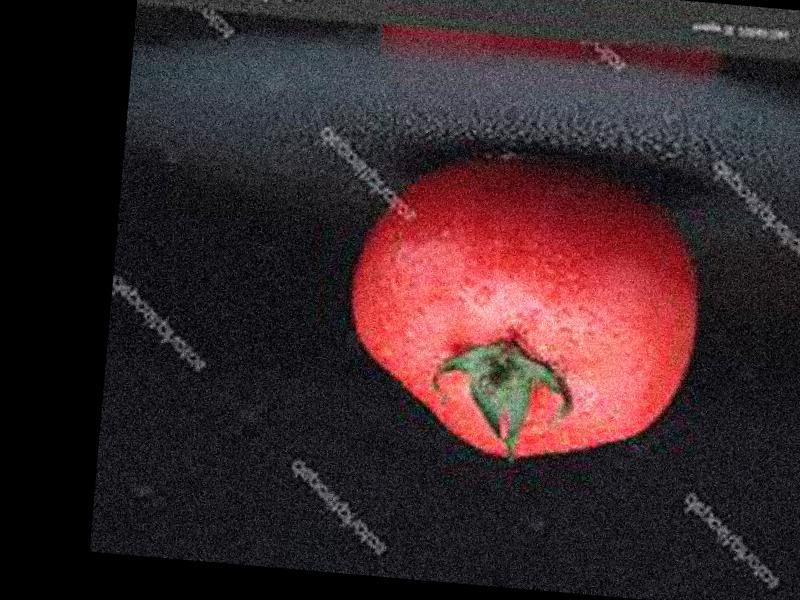Tomato: (338, 145, 711, 475)
